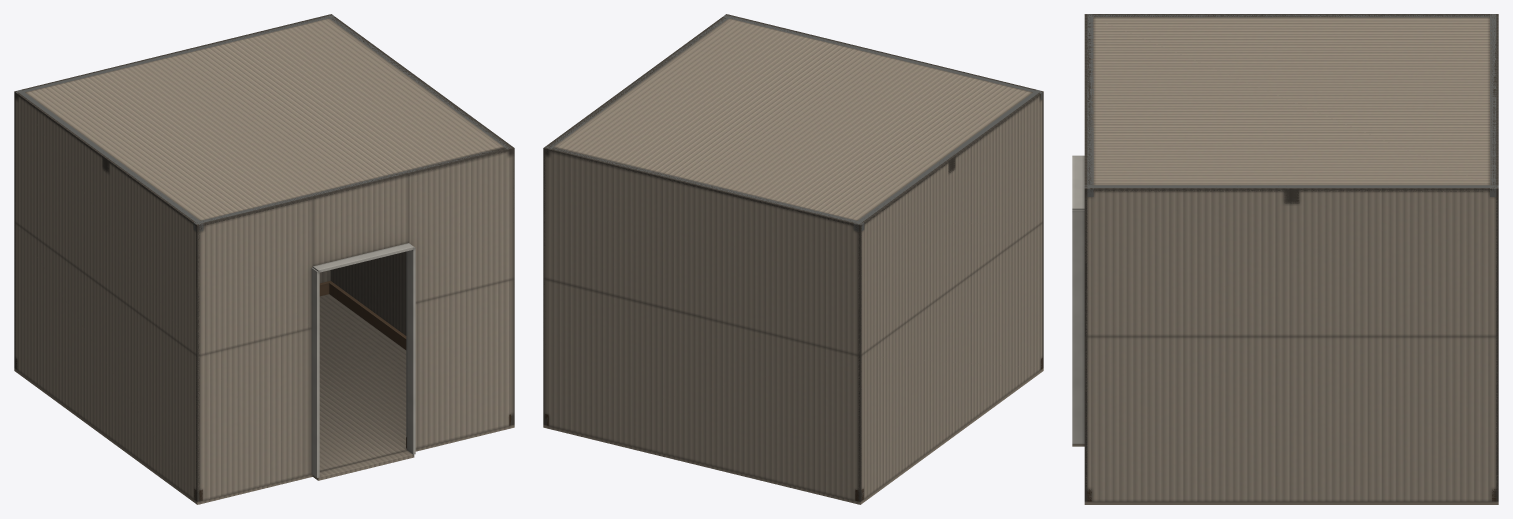
File: house_int_store.glb
3 renders of one model, left to right at view 1: azimuth 30°, elevation 25°; view 2: azimuth 150°, elevation 25°; view 3: azimuth 270°, elevation 25°, orthographic. The views are drawn at different scales.
Visible parts, largest first — view 1: house_int_store; view 2: house_int_store; view 3: house_int_store.
Boxes of the visible parts, x1,y1,x2,y2 form: house_int_store: [14, 14, 514, 504]; house_int_store: [543, 14, 1043, 504]; house_int_store: [1072, 14, 1498, 504].
Size of the model in its own units: 3.3 by 2.78 by 3.4.
1 material, 1 textured.
